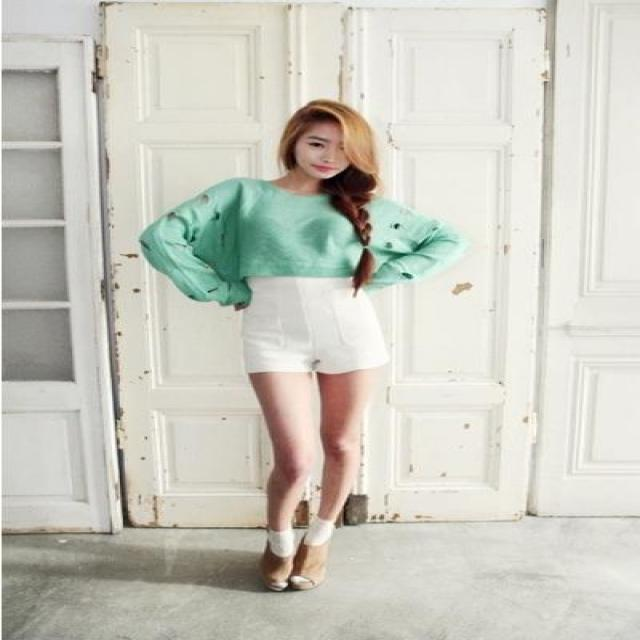jacket: (141, 178, 456, 309)
shoe: (234, 550, 312, 609)
shorts: (225, 276, 388, 561)
